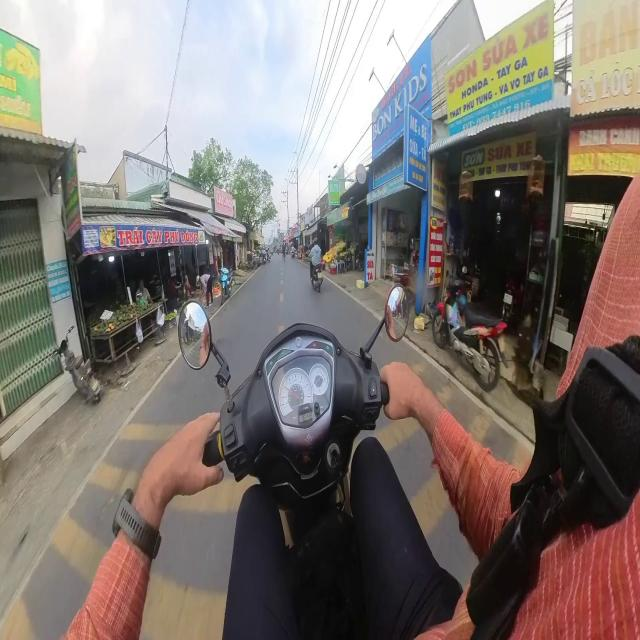motorcycle: (179, 286, 409, 637), (432, 284, 506, 391), (55, 325, 101, 402), (220, 267, 232, 305), (312, 262, 323, 292)
